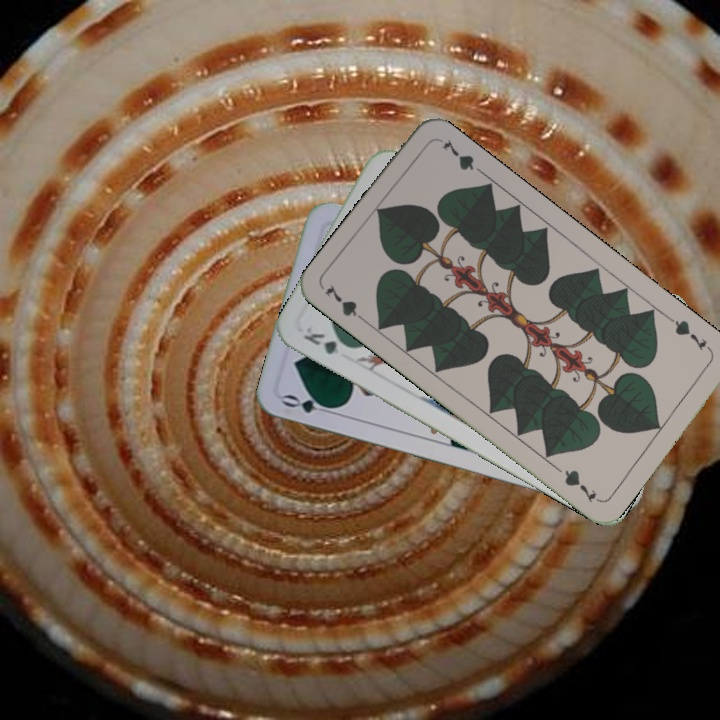G7: (321, 280, 371, 327), (665, 313, 715, 356)
GK: (299, 322, 356, 357)
GO: (278, 390, 339, 417)
